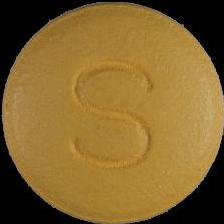42549-621: (0, 0, 224, 224)
